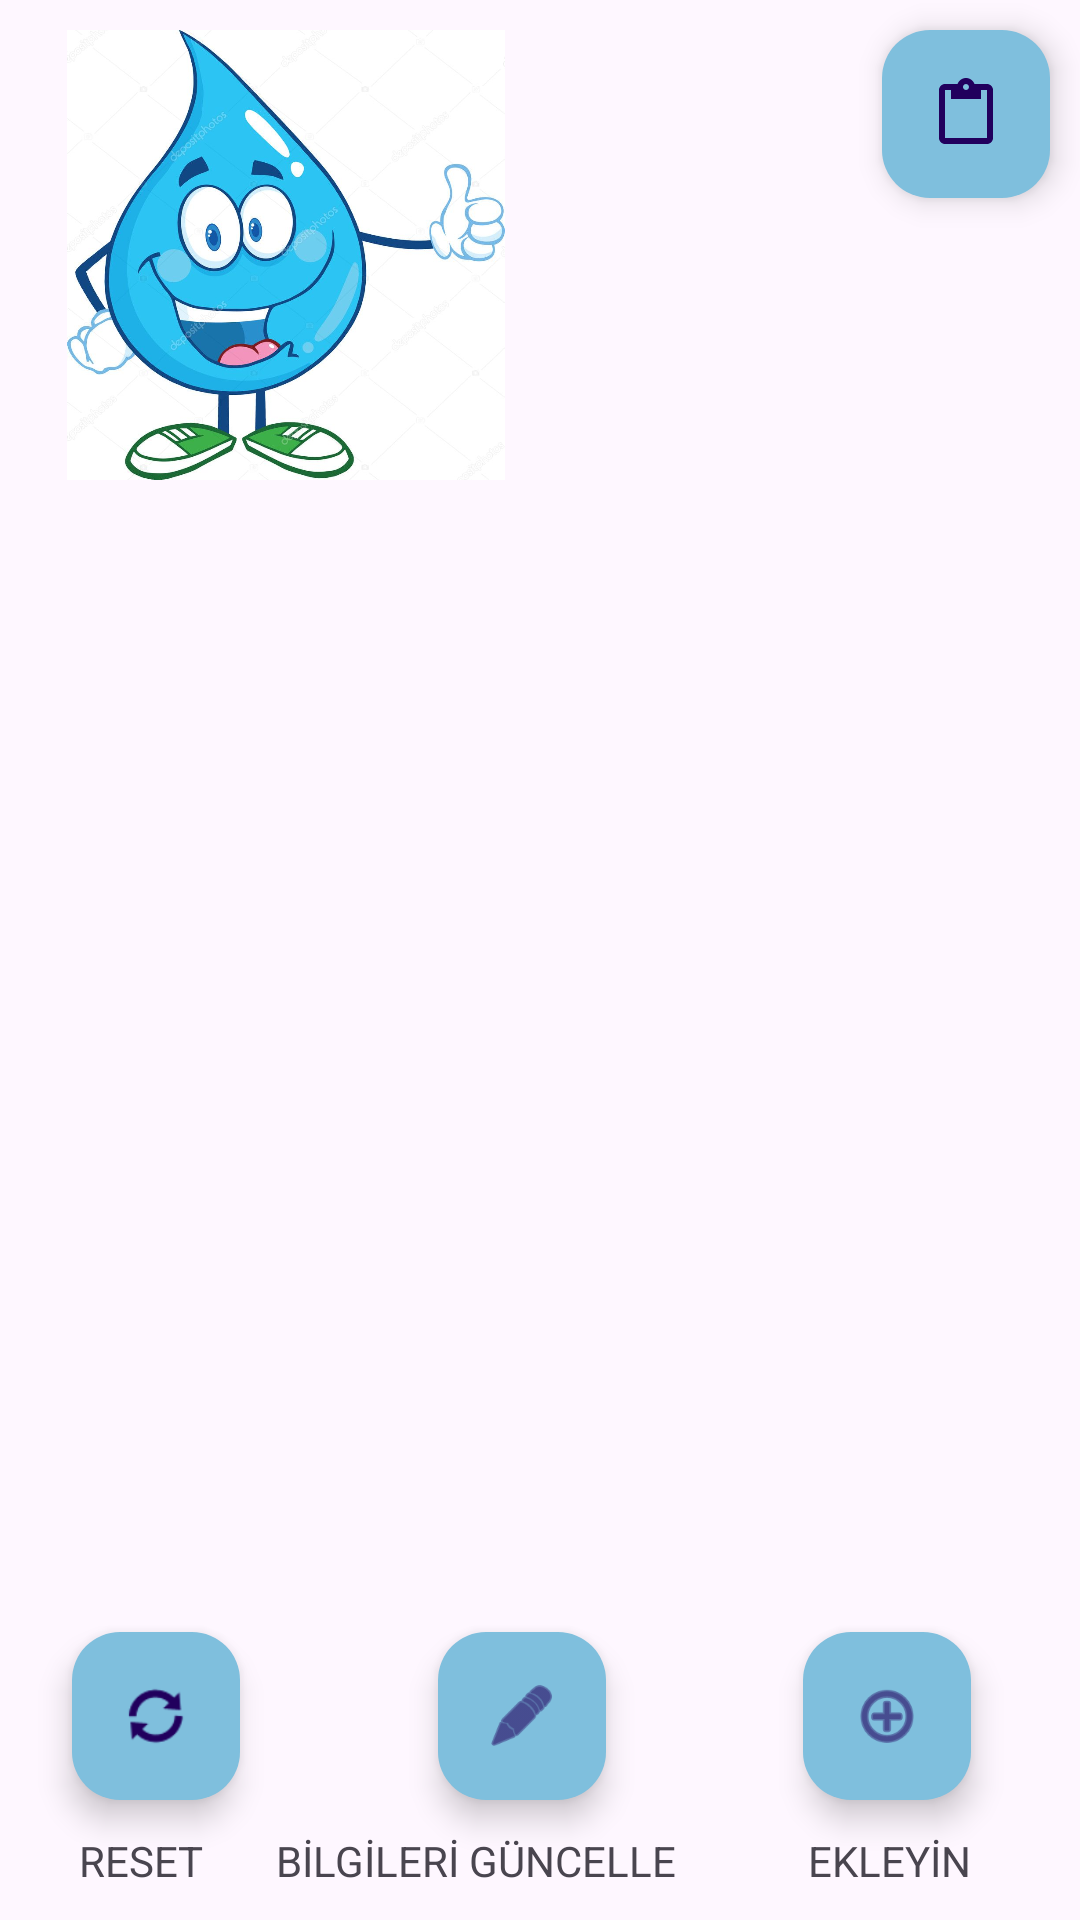

Icon bounding boxes for this 1080px×1920px phone screenshot, format (x1,y1,x2,y2):
edit: (438,1632,606,1800)
popup sync: (72,1632,240,1800)
